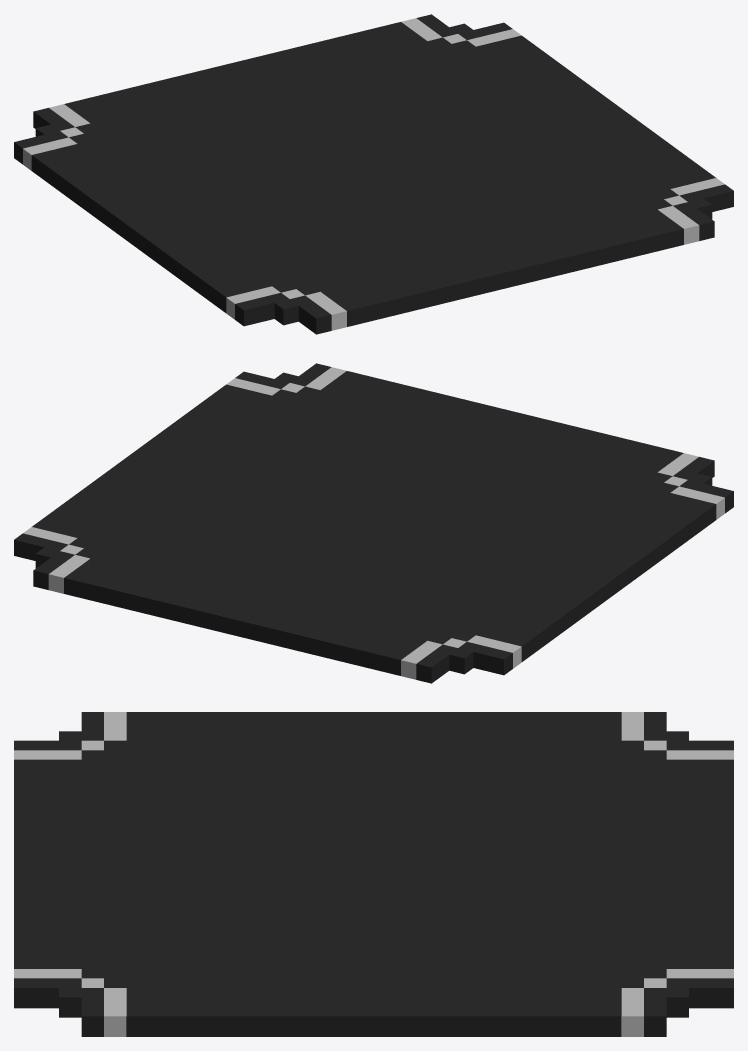
The model's file is road-rounded-4-way-crossing-2.gltf.
The picture shows the model from 3 angles, top to bottom: view 1: azimuth 30°, elevation 25°; view 2: azimuth 150°, elevation 25°; view 3: azimuth 270°, elevation 25°; orthographic projection. The views are drawn at different scales.
Parts seen in each view (by area): view 1: road-rounded-4-way-crossing-2_model; view 2: road-rounded-4-way-crossing-2_model; view 3: road-rounded-4-way-crossing-2_model.
Boxes of the visible parts, bbox=[...] form: road-rounded-4-way-crossing-2_model: bbox=[14, 14, 733, 334]; road-rounded-4-way-crossing-2_model: bbox=[14, 363, 733, 683]; road-rounded-4-way-crossing-2_model: bbox=[14, 712, 733, 1036].
Bounding box in the file's own units: 3.2 × 0.1 × 3.2.
Materials: 1 (1 with a texture image).
